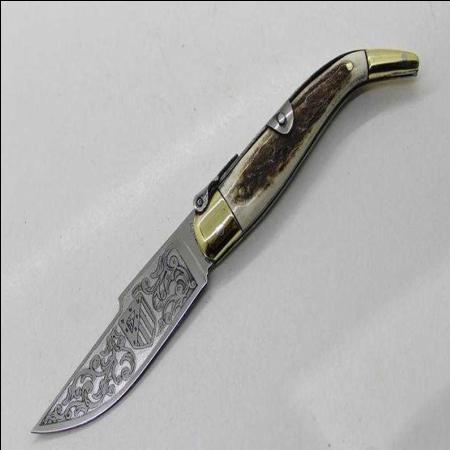long weapon: (25, 208, 220, 440)
